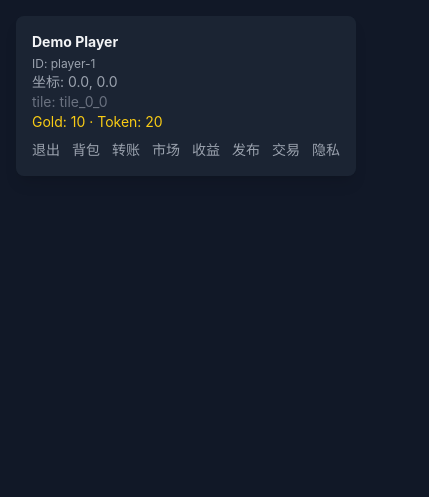
it: PlayerHUD inventory › publishes an NPC template from creator studio
Click the button "发布".
click(246, 150)  # box [232, 140, 260, 160]
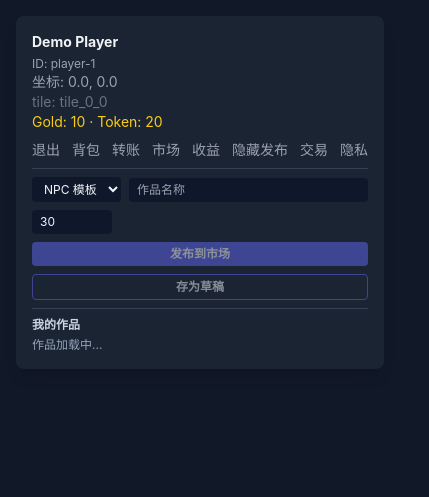
Type "Studio NPC" into the field with placeholder "作品名称".
click(248, 190); type("Studio NPC")  # box [129, 178, 368, 202]
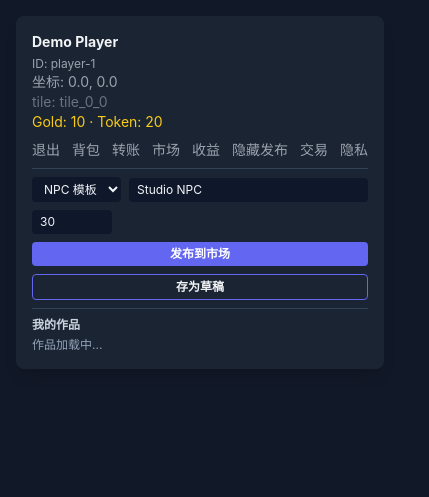
Click the button "发布到市场".
click(200, 254)  # box [32, 242, 368, 266]
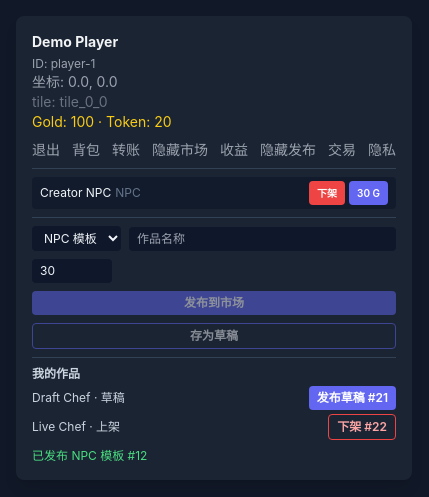
Expected: the text "已发布 NPC 模板 #12" is shown, [32, 448, 147, 463]
